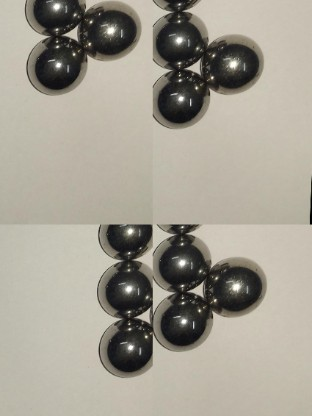ironball: (200, 249, 270, 317), (25, 33, 97, 99), (199, 29, 267, 95), (153, 292, 215, 359), (150, 67, 215, 130), (90, 318, 152, 381), (79, 0, 144, 60), (146, 13, 210, 68), (152, 234, 210, 292), (97, 262, 155, 318), (11, 0, 93, 37), (92, 224, 150, 260), (150, 0, 204, 12), (153, 224, 204, 234)
